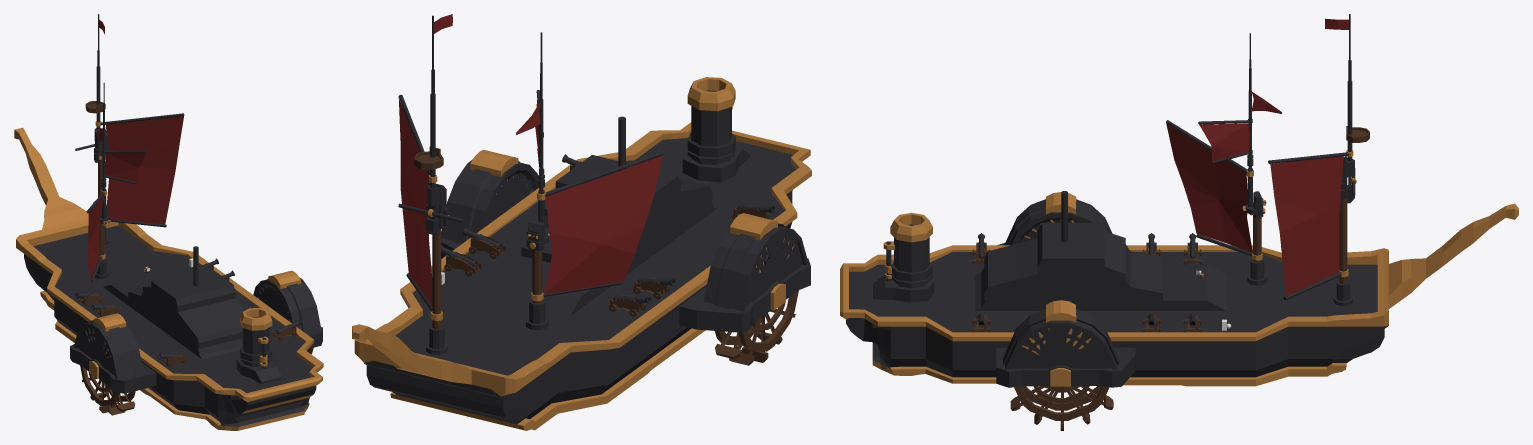
The model's file is ShipModel.fbx.
The picture shows the model from 3 angles, left to right: view 1: azimuth 30°, elevation 25°; view 2: azimuth 150°, elevation 25°; view 3: azimuth 270°, elevation 25°; orthographic projection. The views are drawn at different scales.
Parts seen in each view (by area): view 1: Cube.024, Cube.017, Captain/CrewQuarters, Plane, Plane.002, Plane.001, Cube.022, Cylinder, Cylinder.003, Cylinder.008, Cylinder.045; view 2: Cube.024, Cube.017, Plane.001, Captain/CrewQuarters, Plane, Cylinder, Cylinder.003, Cube.022, Cylinder.007, Cylinder.008, Cylinder.048, Cylinder.046 (+8 smaller); view 3: Cube.024, Captain/CrewQuarters, Cube.017, Plane, Plane.001, Plane.002, Cylinder, Cube.022, Cylinder.003, Cylinder.007.
Boxes of the visible parts, <box> form: Cube.024: <box>14,127,323,430</box>; Cube.017: <box>70,270,322,415</box>; Captain/CrewQuarters: <box>103,246,244,359</box>; Plane: <box>106,116,183,224</box>; Plane.002: <box>105,153,146,181</box>; Plane.001: <box>87,195,104,280</box>; Cube.022: <box>236,358,281,384</box>; Cylinder: <box>242,317,269,366</box>; Cylinder.003: <box>240,308,272,330</box>; Cylinder.008: <box>96,14,100,129</box>; Cylinder.045: <box>273,319,301,341</box>; Cube.024: <box>352,122,811,430</box>; Cube.017: <box>441,150,810,365</box>; Plane.001: <box>544,155,662,293</box>; Captain/CrewQuarters: <box>484,116,716,316</box>; Plane: <box>398,98,432,305</box>; Cylinder: <box>691,90,731,164</box>; Cylinder.003: <box>687,77,735,111</box>; Cube.022: <box>682,147,749,182</box>; Cylinder.007: <box>432,229,441,329</box>; Cylinder.008: <box>430,15,435,188</box>; Cylinder.048: <box>462,227,505,259</box>; Cylinder.046: <box>441,244,480,276</box>; Cube.024: <box>840,203,1518,386</box>; Captain/CrewQuarters: <box>975,191,1226,310</box>; Cube.017: <box>996,192,1135,430</box>; Plane: <box>1270,156,1343,296</box>; Plane.001: <box>1166,123,1252,252</box>; Plane.002: <box>1199,123,1249,162</box>; Cylinder: <box>894,224,929,288</box>; Cube.022: <box>873,274,934,302</box>; Cylinder.003: <box>890,212,932,242</box>; Cylinder.007: <box>1339,199,1347,284</box>.
Bounding box in the file's own units: 1190 × 1563 × 2619.
